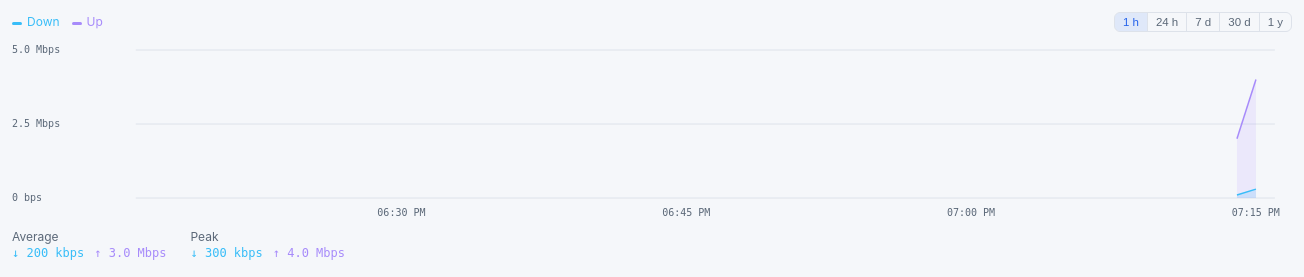
Test: TrafficChart › changes the range, and says when there is no data
Expected: the element with test id "chart-stats" shows "↓ 200 kbps", [12, 246, 84, 260]
Click the button with test id "range-168": point(1203, 22) [1186, 13, 1219, 31]
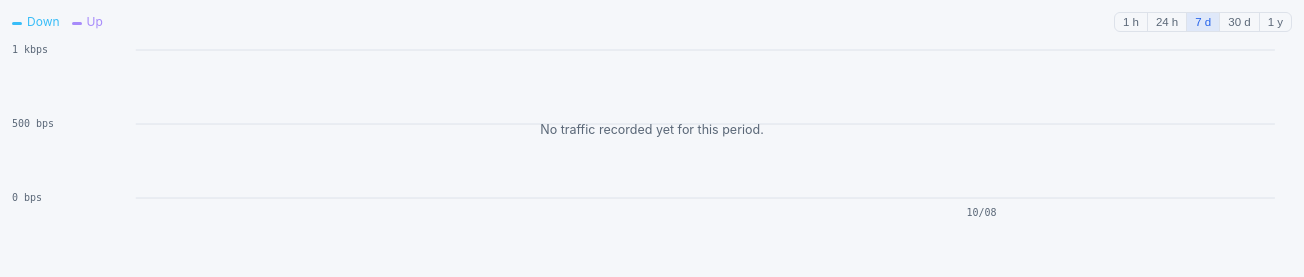
Now the text "No traffic recorded yet for this period." is shown, box [540, 122, 764, 137]
